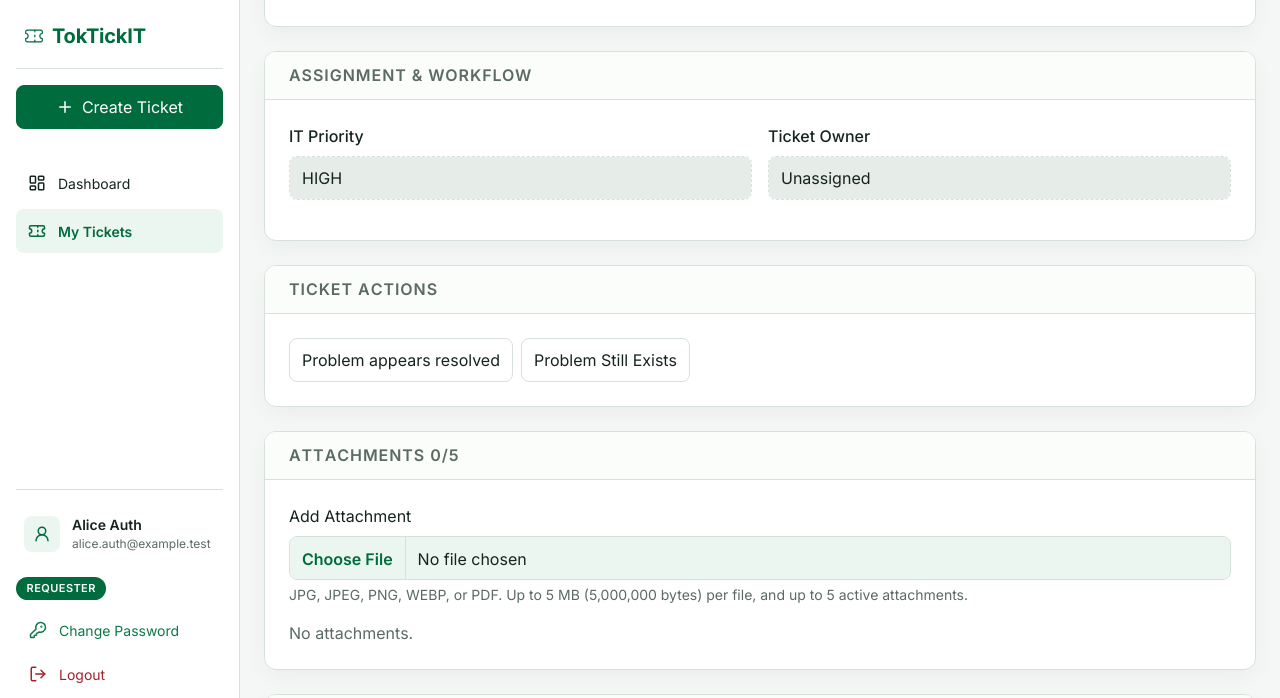
Test: authenticated Requester regression › UI-12 @issue-4 posts Looks Resolved through authenticated requester action and shows confirmation
The image size is (1280, 698).
(page scrolled)
Click the button "Problem appears resolved" at (401, 360), box [289,338,513,382]
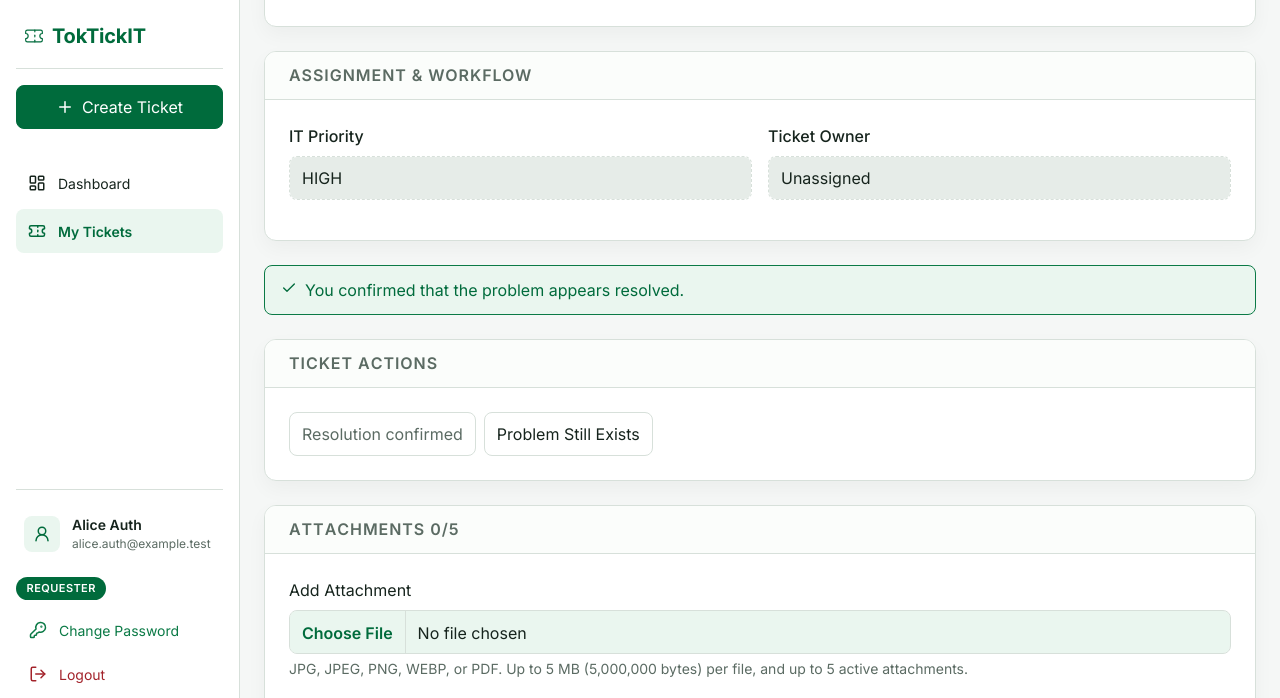
expect the text "You confirmed that the problem appears resolved." is shown: met, box [305,278,684,302]
